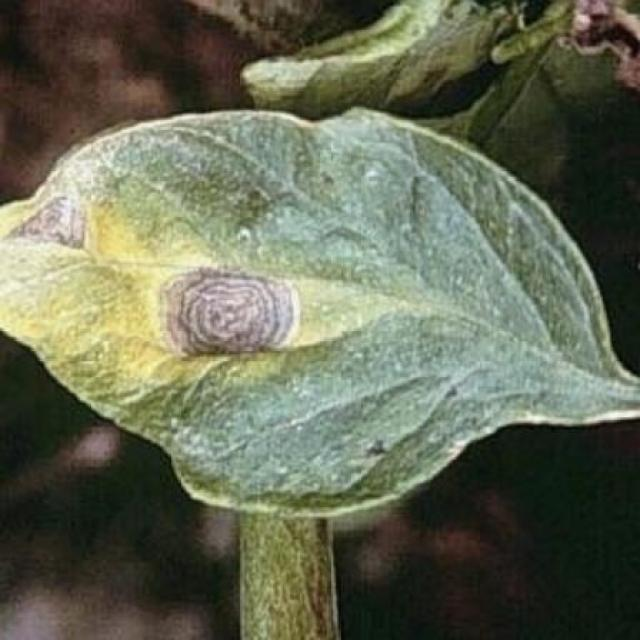Early Blight: (0, 107, 609, 522)
